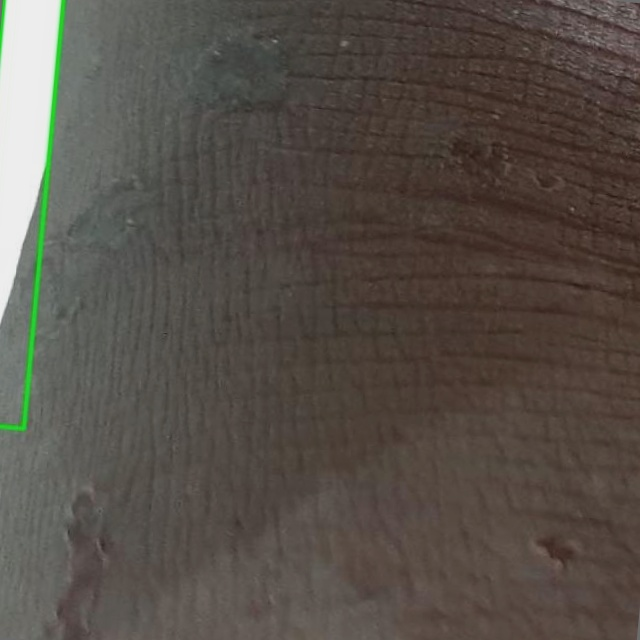Contact Dermatitis: (0, 0, 63, 427)
